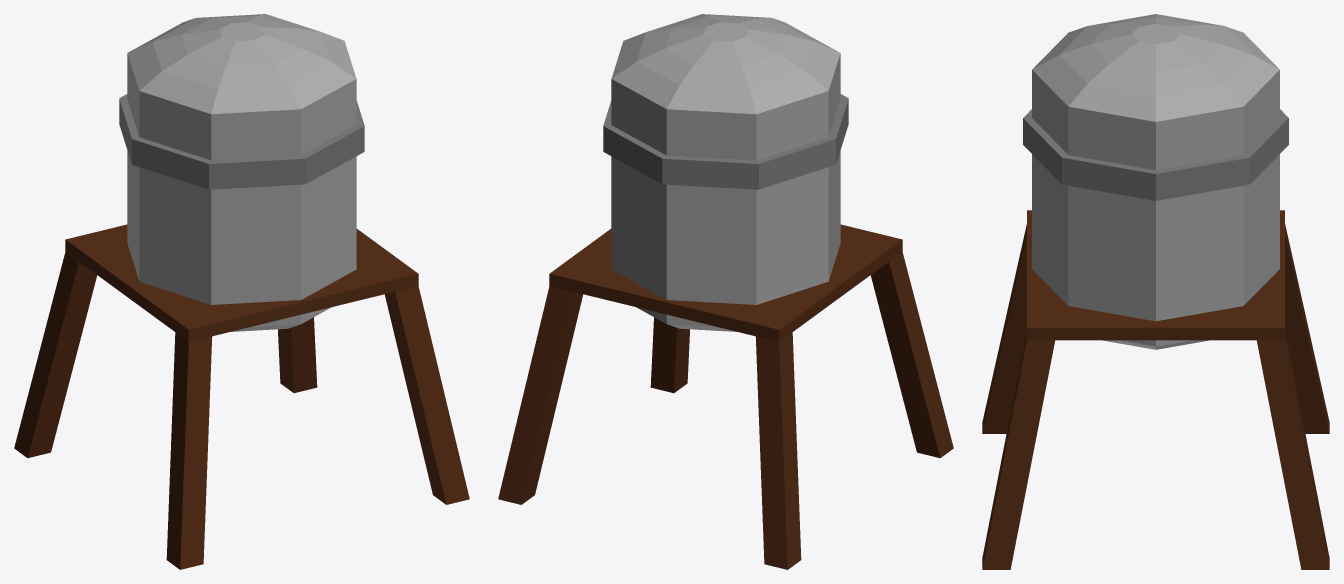
The model's file is WaterTower.fbx.
The picture shows the model from 3 angles, left to right: view 1: azimuth 30°, elevation 25°; view 2: azimuth 150°, elevation 25°; view 3: azimuth 270°, elevation 25°; orthographic projection. The views are drawn at different scales.
Visible parts, largest first — view 1: WATER TOWER; view 2: WATER TOWER; view 3: WATER TOWER.
Boxes of the visible parts, x1=… form: WATER TOWER: x1=14, y1=14, x2=469, y2=569; WATER TOWER: x1=498, y1=14, x2=953, y2=569; WATER TOWER: x1=982, y1=14, x2=1329, y2=569.
Bounding box in the file's own units: 1023 × 1492 × 1016.
